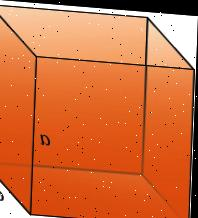cube: (0, 5, 197, 218)
